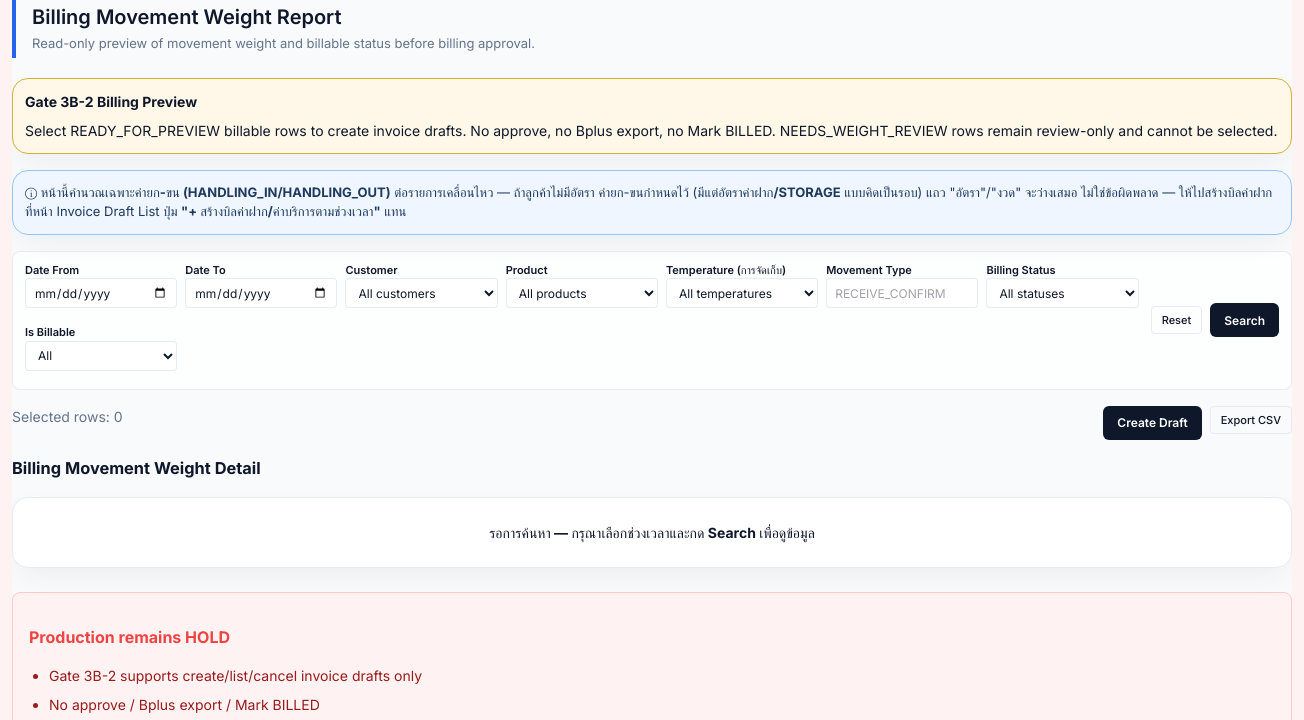
Test: Gate 3B-RLS billing invoice draft UI permissions › shows create draft controls for accounting role
Check: the button with test id "create-invoice-draft-button" is shown, box [1103, 406, 1202, 440]
Click the button "Search". click: (1245, 320)
box: [1210, 303, 1279, 337]
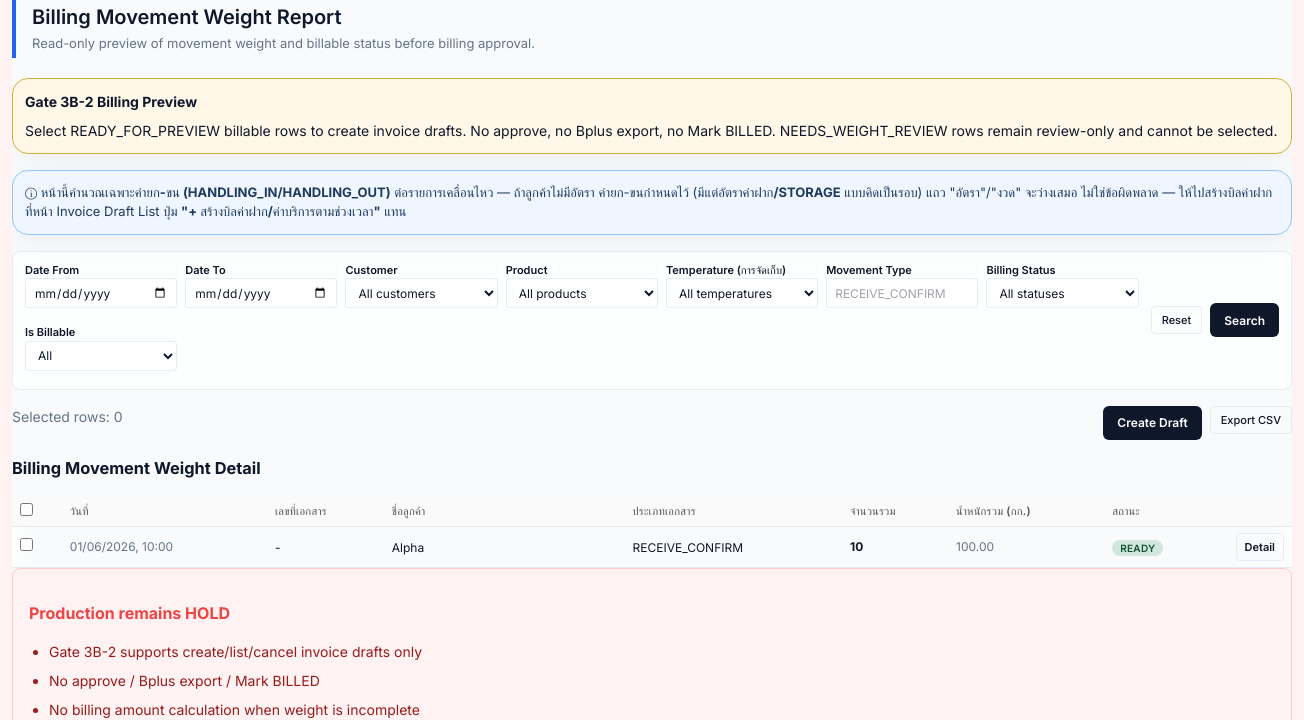
Check: the number of checkboxes with test id "billing-movement-row-checkbox" is 1, box [20, 538, 33, 551]
